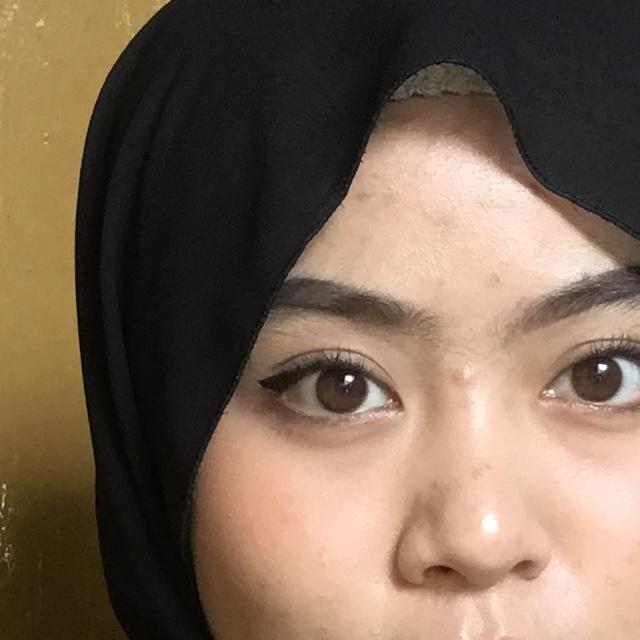kapan: (0, 256, 265, 640)
